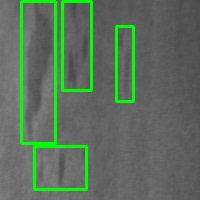inclusion: (21, 1, 55, 143), (62, 1, 91, 90), (34, 146, 86, 189), (116, 26, 133, 101)
